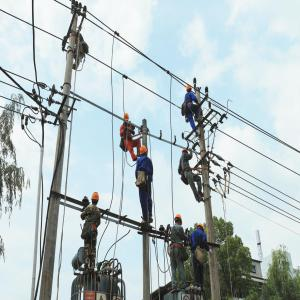red: (140, 145, 149, 159), (175, 214, 184, 227), (92, 193, 100, 206), (197, 223, 206, 234), (186, 84, 193, 95), (124, 113, 130, 124), (182, 149, 189, 156)
